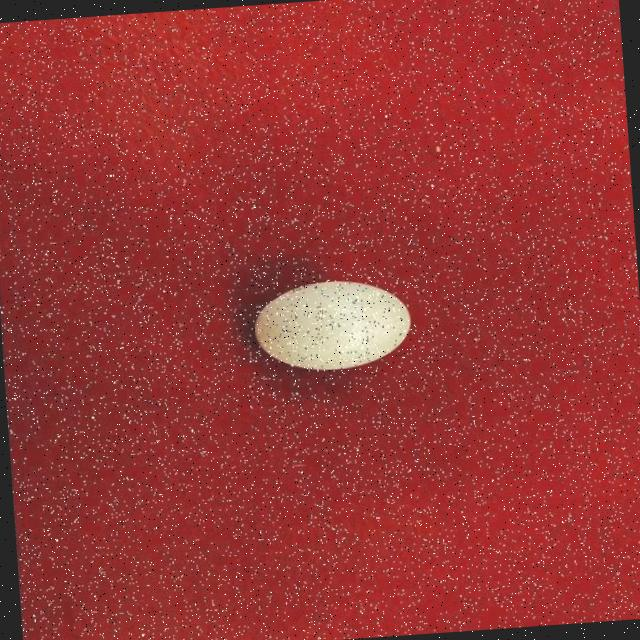ping-pong-ball: (246, 273, 414, 377)
